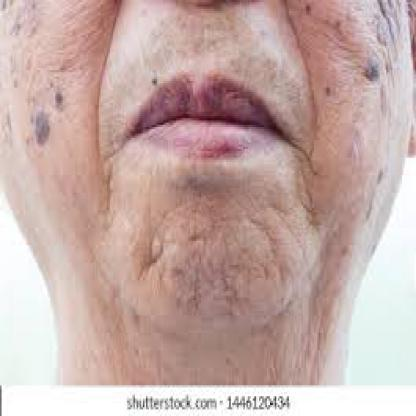darkspot: (375, 0, 406, 64), (31, 107, 50, 144), (361, 51, 380, 84), (0, 110, 11, 142), (51, 88, 64, 112), (7, 15, 21, 35), (29, 18, 42, 37), (336, 241, 348, 258), (0, 0, 14, 13), (302, 2, 312, 16), (374, 164, 383, 178), (322, 81, 328, 99), (28, 0, 36, 9)
